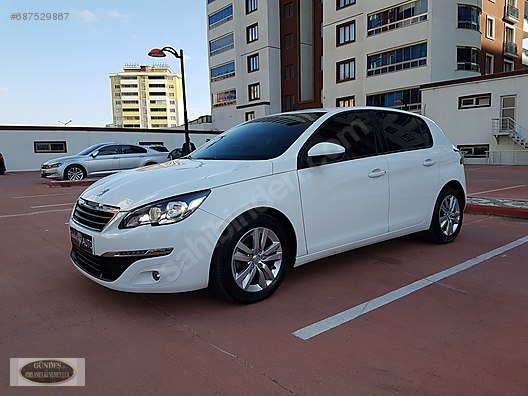peugeot: (61, 101, 478, 318)
